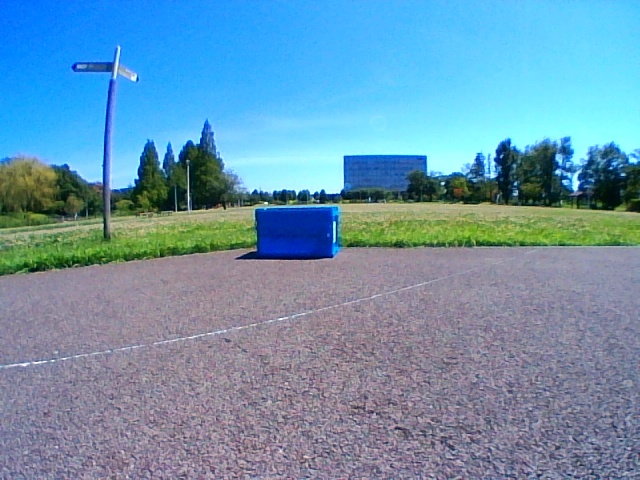blue_box: (255, 206, 339, 258)
tag: (333, 221, 336, 242)
